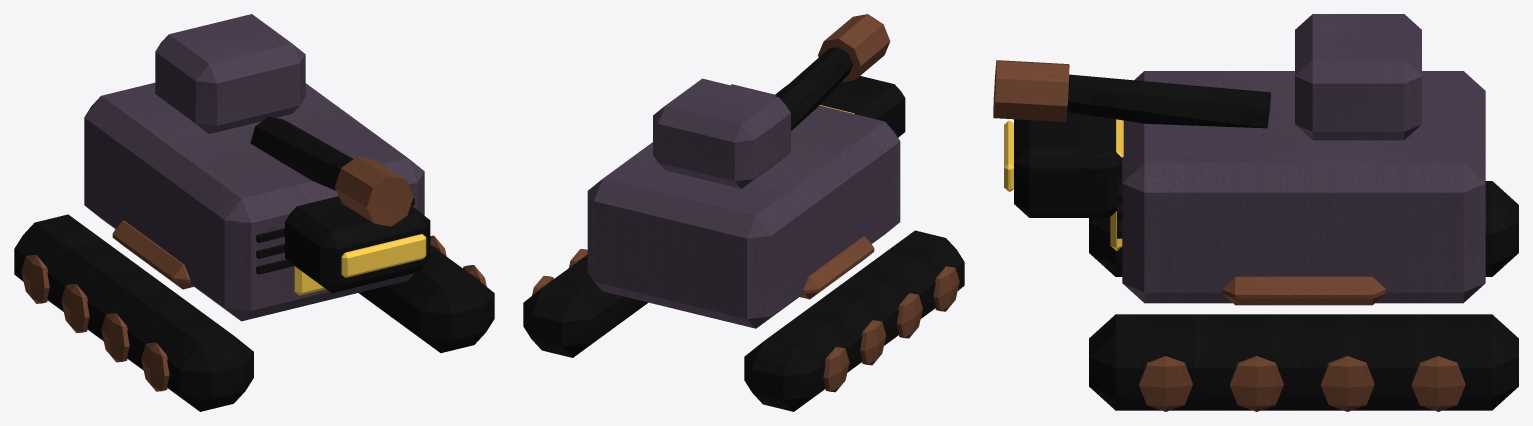
File: mon_cons_03.glb
3 renders of one model, left to right at view 1: azimuth 30°, elevation 25°; view 2: azimuth 150°, elevation 25°; view 3: azimuth 270°, elevation 25°, orthographic. The views are drawn at different scales.
Visible parts, largest first — view 1: mon_cons_03; view 2: mon_cons_03; view 3: mon_cons_03.
Boxes of the visible parts, box(x1,y1,x2,y2) form: mon_cons_03: box(14, 14, 494, 411); mon_cons_03: box(523, 14, 964, 411); mon_cons_03: box(993, 14, 1518, 411).
Size of the model in its own units: 0.5911 by 0.4458 by 0.7141.
Materials: 4 (4 with a texture image).
